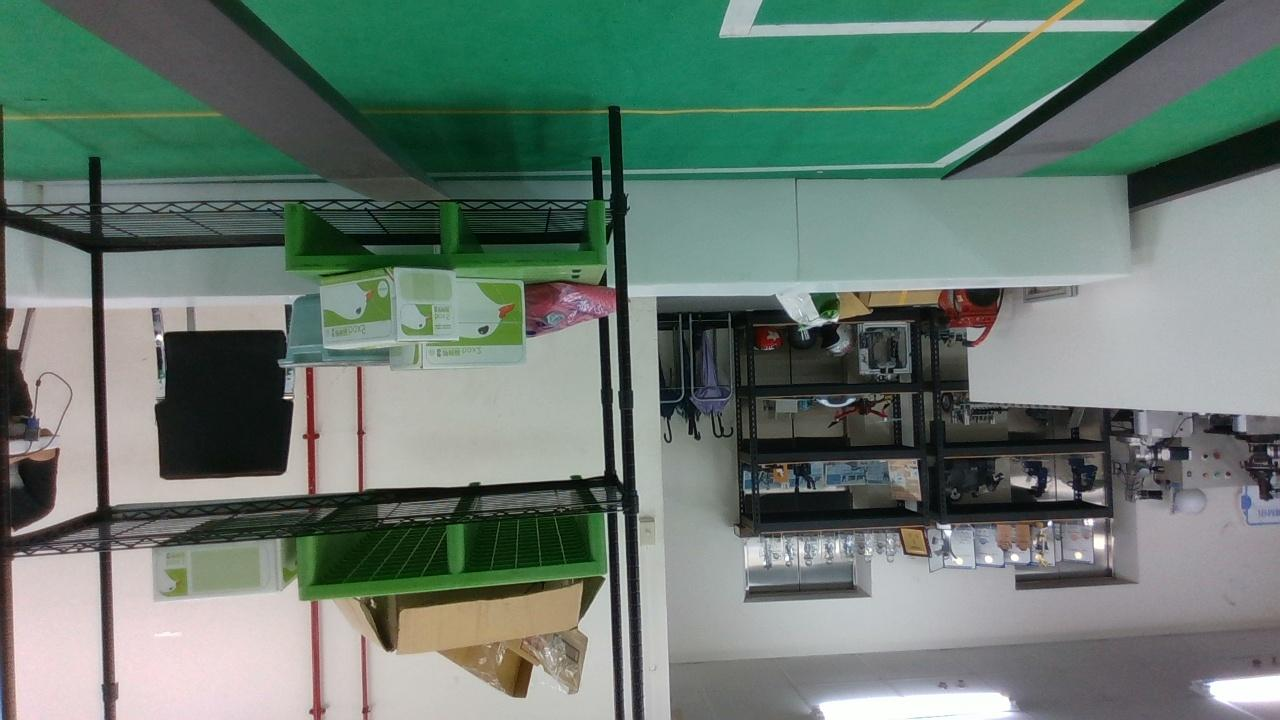Pallet: (296, 510, 609, 602), (284, 200, 609, 270)
